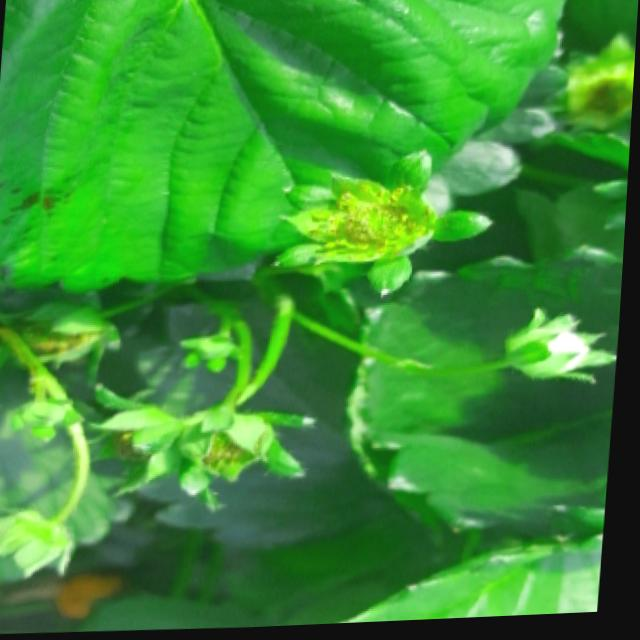Blossom Blight: (300, 180, 442, 267)
